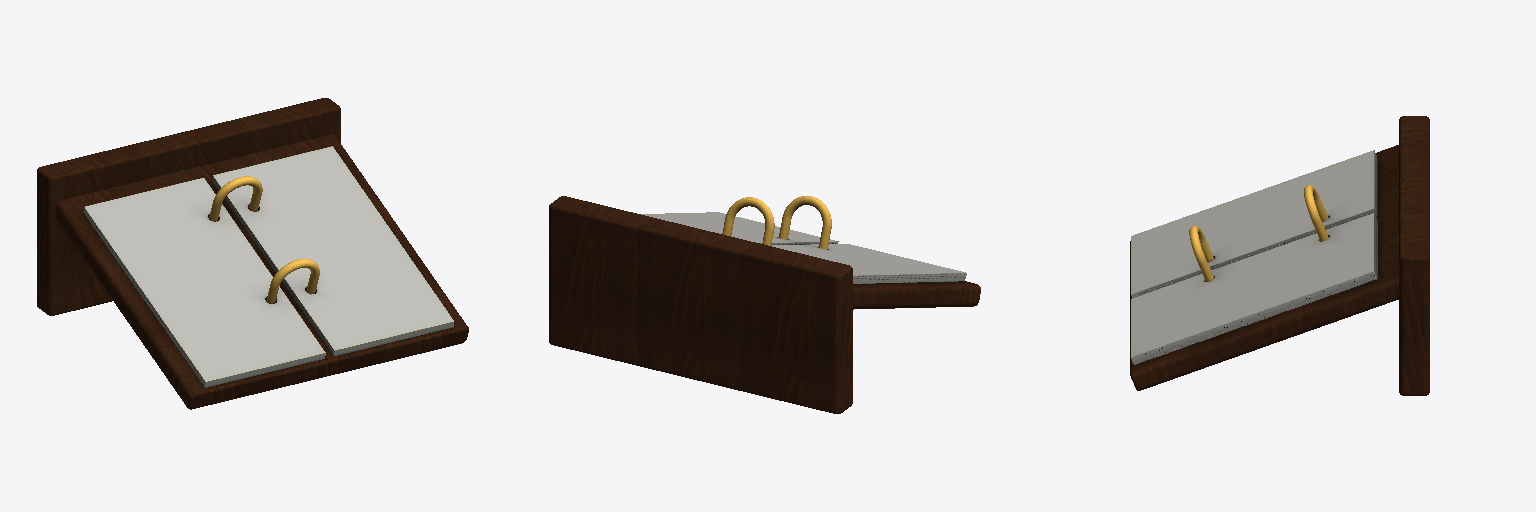
3 views of the same model, side by side, from view 1: azimuth 30°, elevation 25°; view 2: azimuth 150°, elevation 25°; view 3: azimuth 270°, elevation 25° (orthographic).
Parts seen in each view (by area): view 1: osnova, list_1, list_2, petl_2, petl_1; view 2: osnova, list_1, list_2, petl_1, petl_2; view 3: osnova, list_2, list_1, petl_1, petl_2.
Part boxes in pixels (bbox=[...]): osnova: bbox=[37, 98, 468, 409]; list_1: bbox=[83, 178, 325, 387]; list_2: bbox=[212, 146, 453, 356]; petl_2: bbox=[209, 176, 262, 221]; petl_1: bbox=[266, 259, 319, 303]; osnova: bbox=[549, 196, 980, 413]; list_1: bbox=[771, 244, 966, 283]; list_2: bbox=[641, 212, 838, 244]; petl_1: bbox=[779, 196, 831, 249]; petl_2: bbox=[722, 197, 774, 245]; osnova: bbox=[1130, 116, 1429, 395]; list_2: bbox=[1131, 213, 1377, 364]; list_1: bbox=[1131, 150, 1377, 297]; petl_1: bbox=[1189, 226, 1213, 281]; petl_2: bbox=[1304, 185, 1328, 241].
Size of the model in its own units: 0.22 by 0.1 by 0.1948.
Materials: 1 (1 with a texture image).